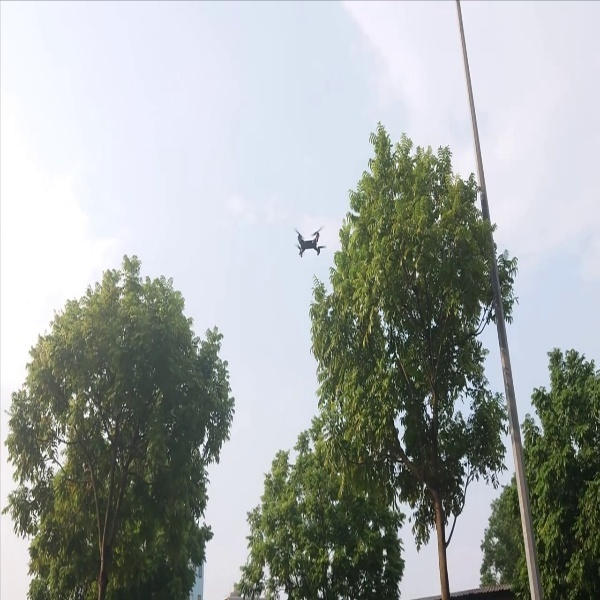drone: (293, 217, 330, 259)
